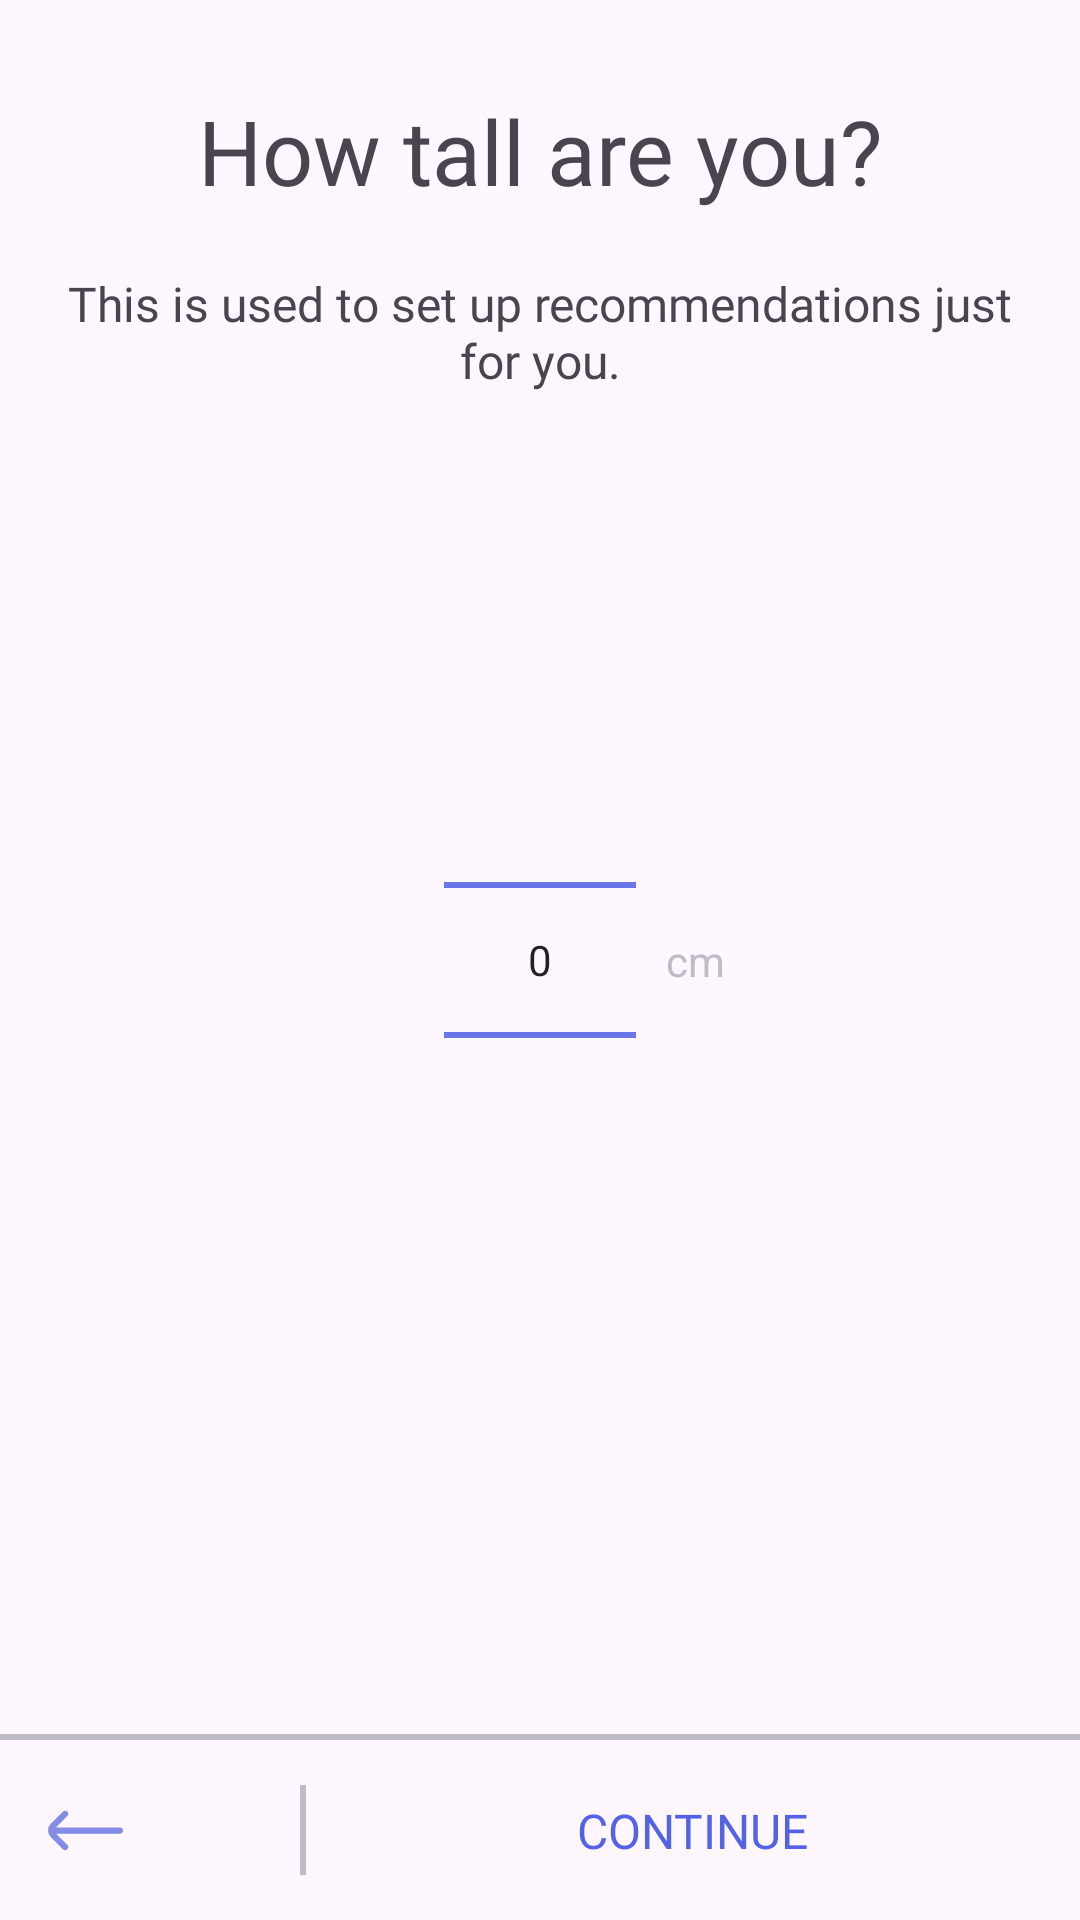

Where icons sit on this 1080 x 1920 app screen, as (x1, y1, x2, y2):
arrow left: (48, 1811, 123, 1850)
